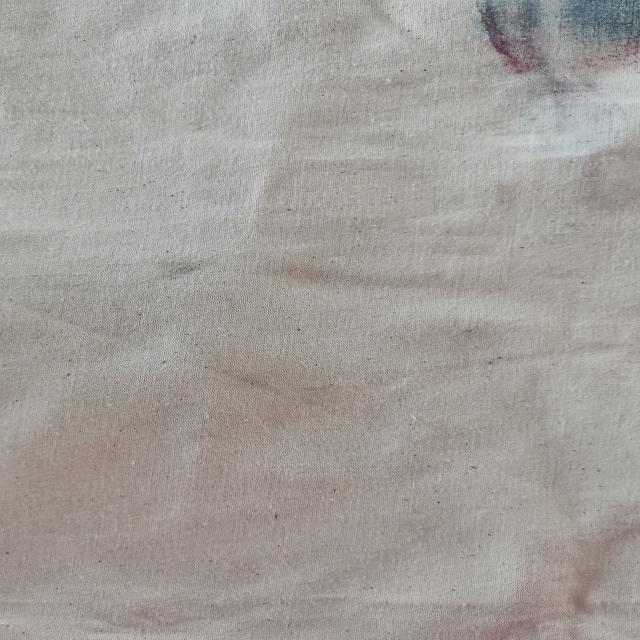taaaches: (403, 0, 640, 109), (142, 251, 222, 293)
